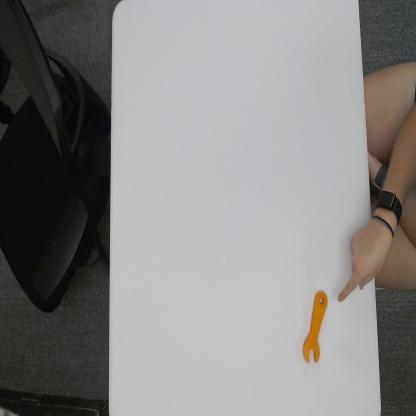Hand: (335, 214, 389, 307)
Screwdriver: (300, 288, 328, 364)
